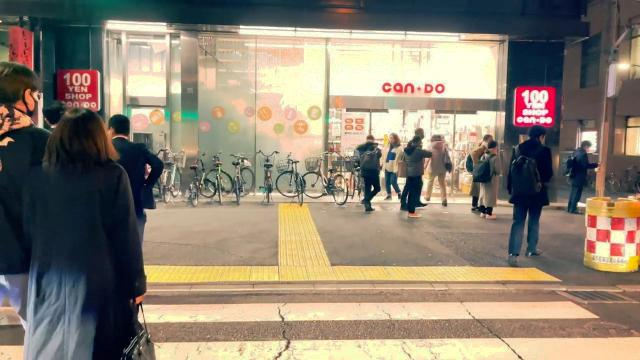berdiri: (464, 129, 500, 223), (564, 136, 596, 216)
berjalan: (22, 96, 158, 360), (504, 124, 556, 266), (398, 124, 434, 218), (357, 136, 383, 214)
